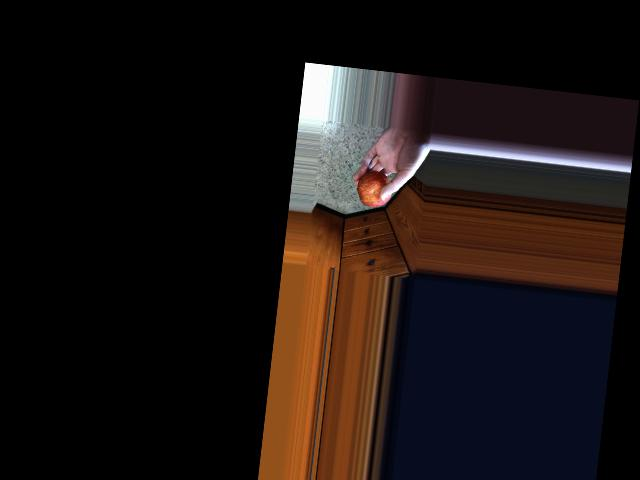apple: (352, 162, 399, 214)
